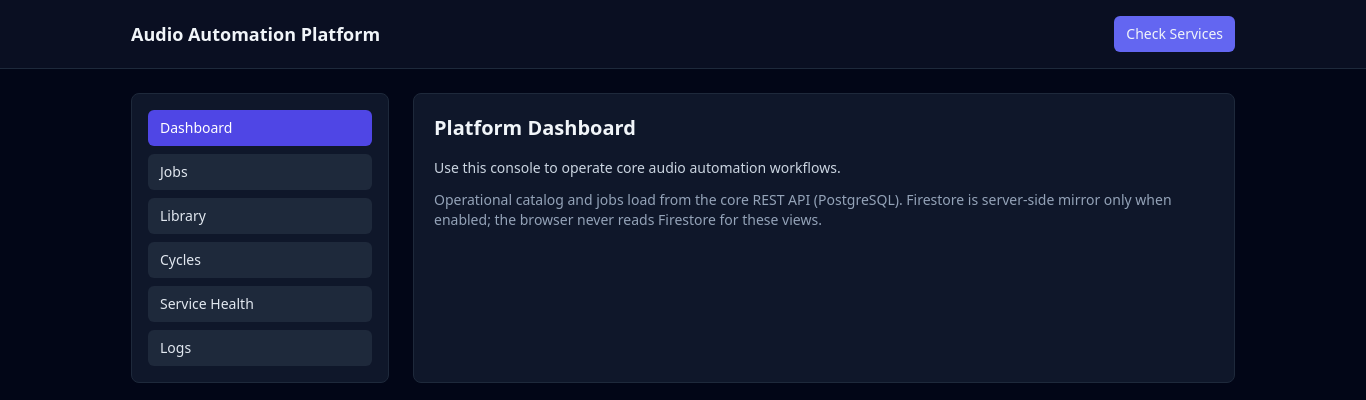
Test case: App › checks services and shows healthy state
This screenshot has width=1366, height=400.
Click the button "Check Services" at {"x": 1175, "y": 34}, box [1114,16,1235,52]
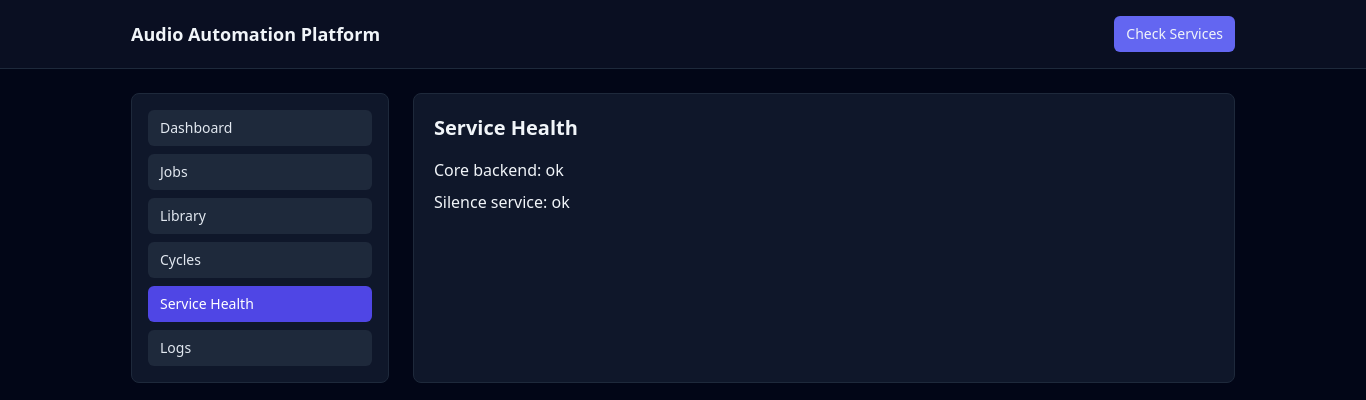
Expected: the text "Core backend: ok" is shown, [434,159,564,181]
Expected: the text "Silence service: ok" is shown, [434,191,570,213]
